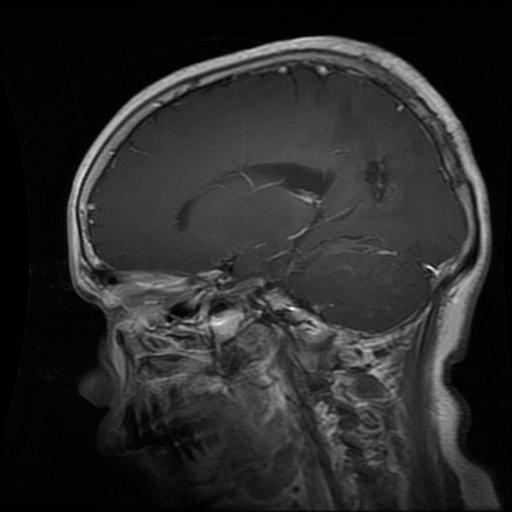Gliomia_tumour: (365, 147, 398, 207)
